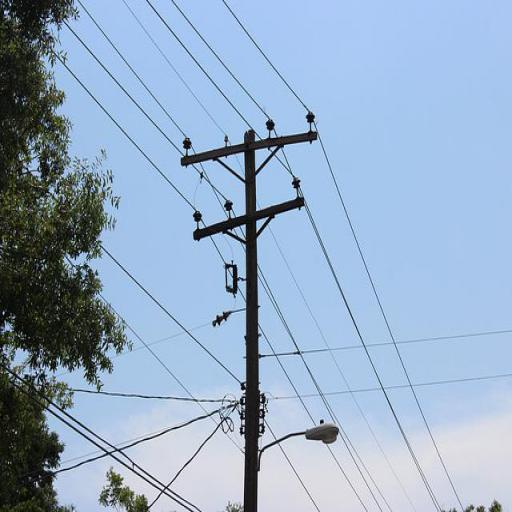mono_8: (180, 117, 322, 511)
